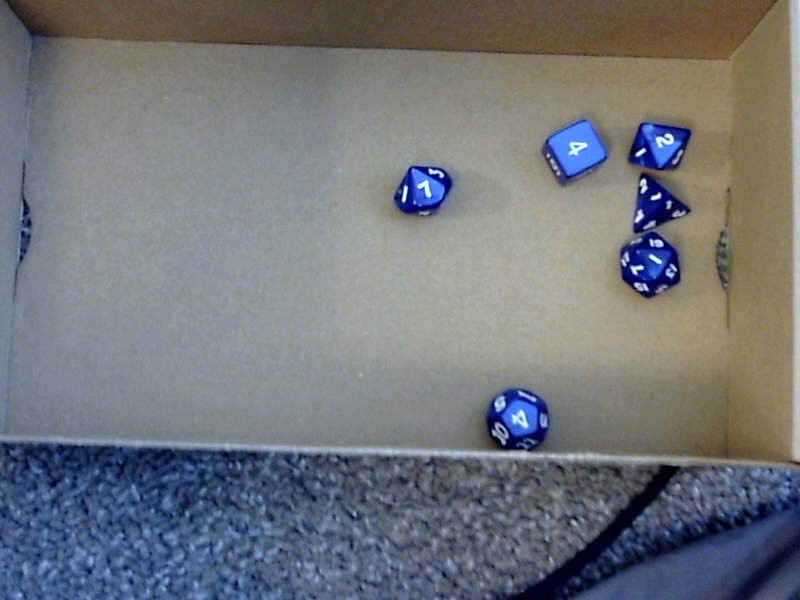d10 7: (389, 158, 453, 221)
d12 4: (484, 385, 551, 449)
d20 1: (615, 232, 682, 299)
d4 1: (631, 173, 691, 234)
d6 4: (539, 114, 607, 185)
d8 2: (625, 119, 692, 171)
